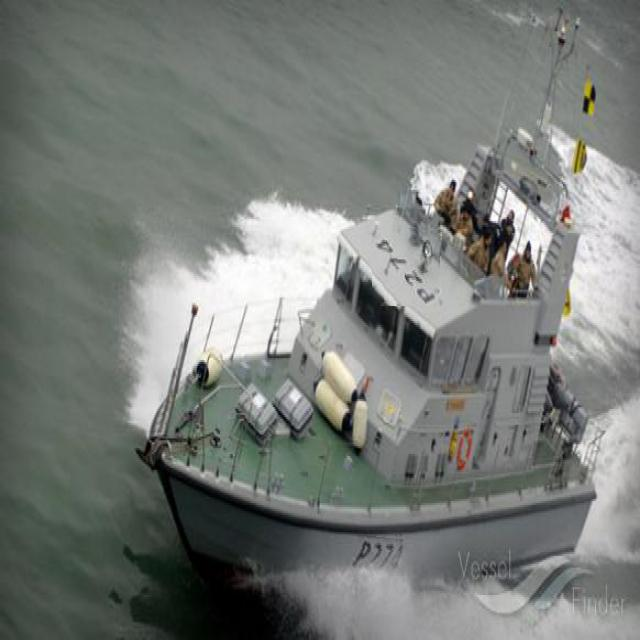OCR: (372, 224, 442, 306), (353, 534, 404, 576)
